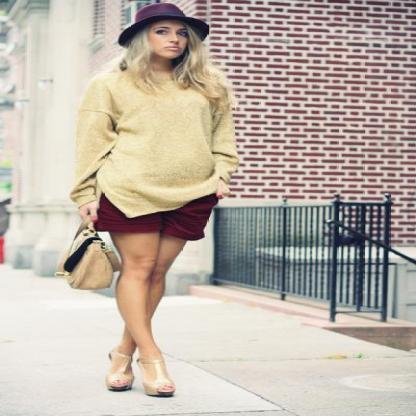bag: (63, 237, 112, 289)
hat: (119, 3, 208, 41)
jacket: (70, 68, 244, 217)
shoe: (104, 348, 174, 398)
shorts: (93, 192, 211, 240)
